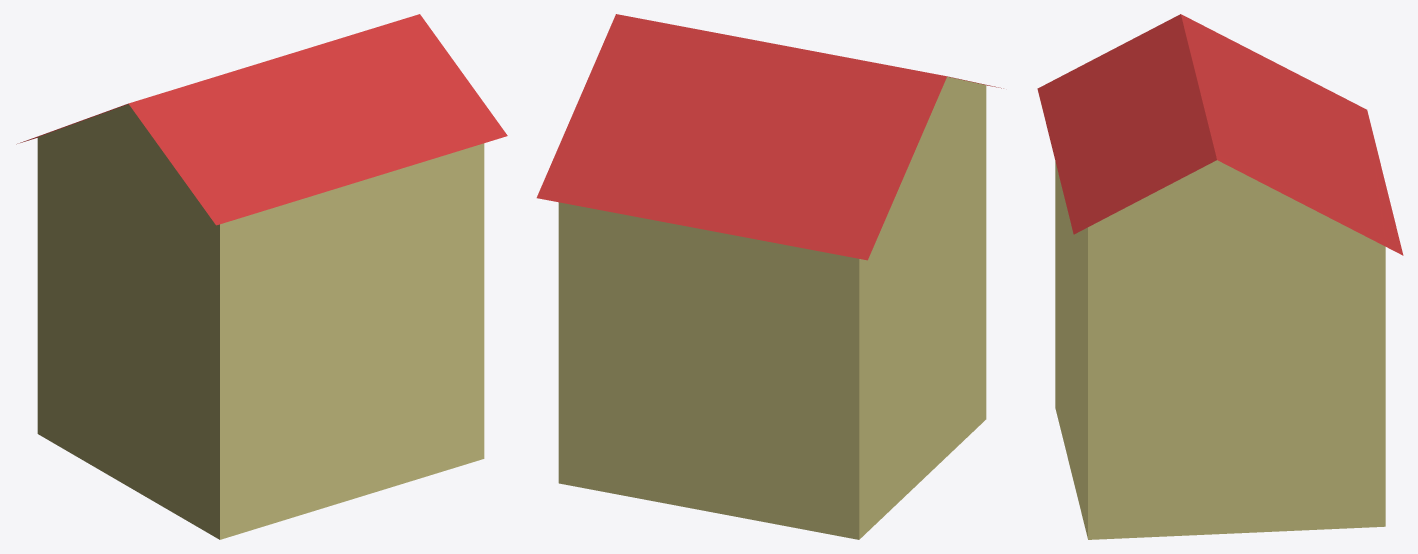
3 renders of one model, left to right at view 1: azimuth 30°, elevation 25°; view 2: azimuth 150°, elevation 25°; view 3: azimuth 270°, elevation 25°, orthographic. The views are drawn at different scales.
Bounding box in the file's own units: 11.72 × 11.28 × 12.96.
